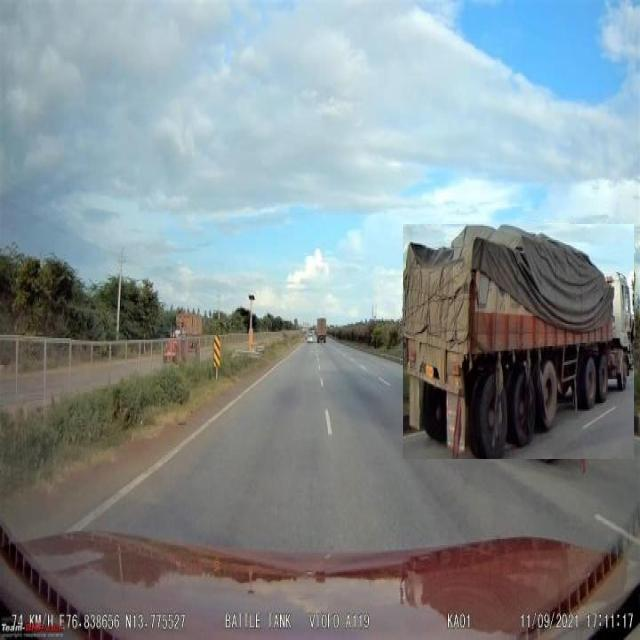truck: (404, 225, 634, 459)
